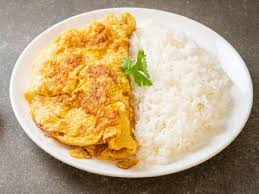Nasi putih: (135, 14, 238, 172)
Telur dadar: (25, 10, 138, 171)
